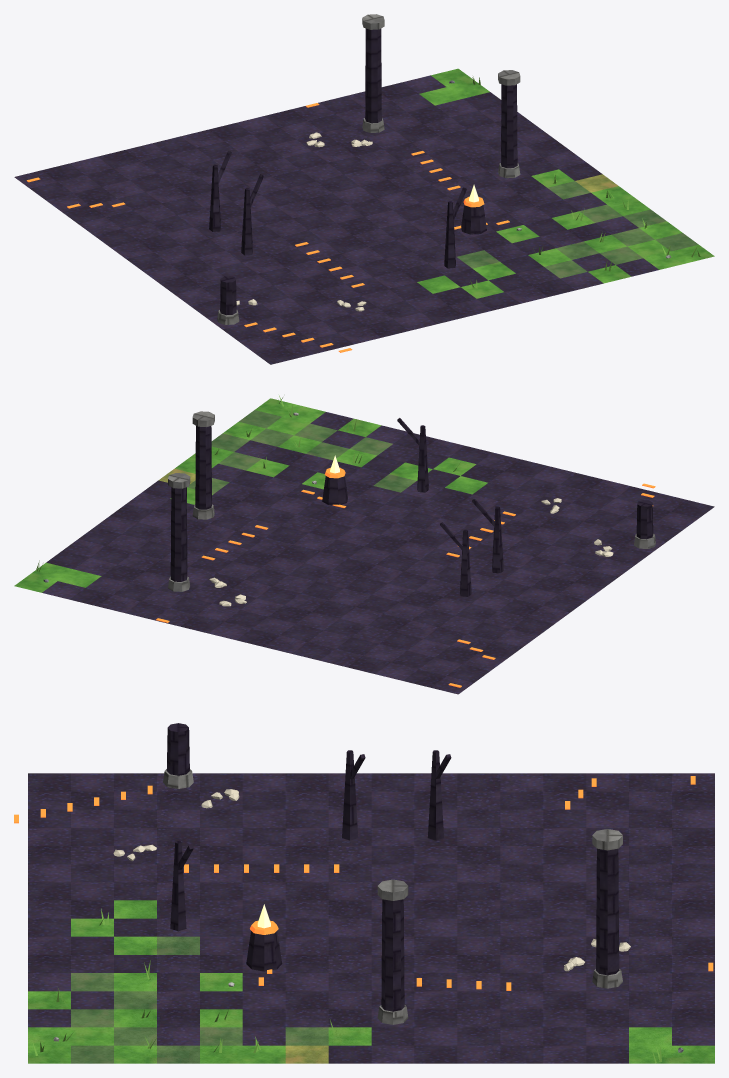
Rendered from chunk_7_23.glb.
3 renders of one model, top to bottom at view 1: azimuth 30°, elevation 25°; view 2: azimuth 150°, elevation 25°; view 3: azimuth 270°, elevation 25°, orthographic. The views are drawn at different scales.
Visible parts, largest first — view 1: chunk_7_23; view 2: chunk_7_23; view 3: chunk_7_23.
Part boxes in pixels (x1,y1,x2,y2): chunk_7_23: [14, 14, 714, 364]; chunk_7_23: [14, 395, 714, 694]; chunk_7_23: [14, 723, 714, 1063].
Bounding box in the file's own units: 16.01 × 3.93 × 16.33.
Materials: 13 (9 with a texture image).
